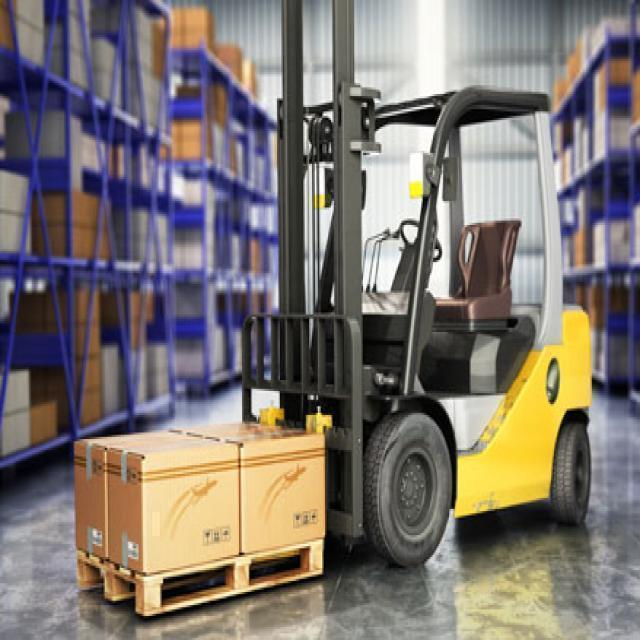forklift: (260, 24, 610, 573)
